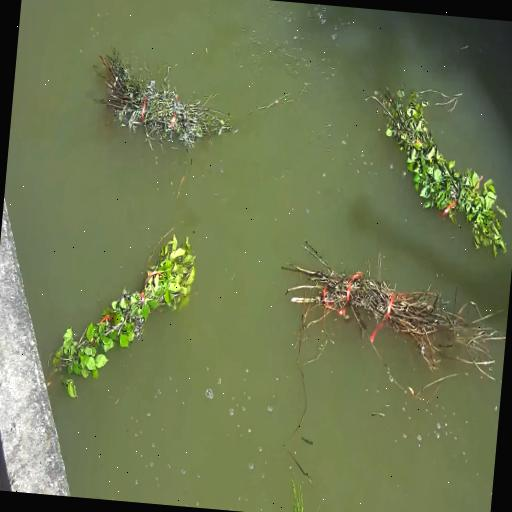twig: (282, 241, 466, 369), (369, 90, 506, 256), (53, 235, 195, 378), (101, 49, 236, 148), (453, 315, 506, 376), (247, 93, 289, 113), (176, 167, 188, 198)
